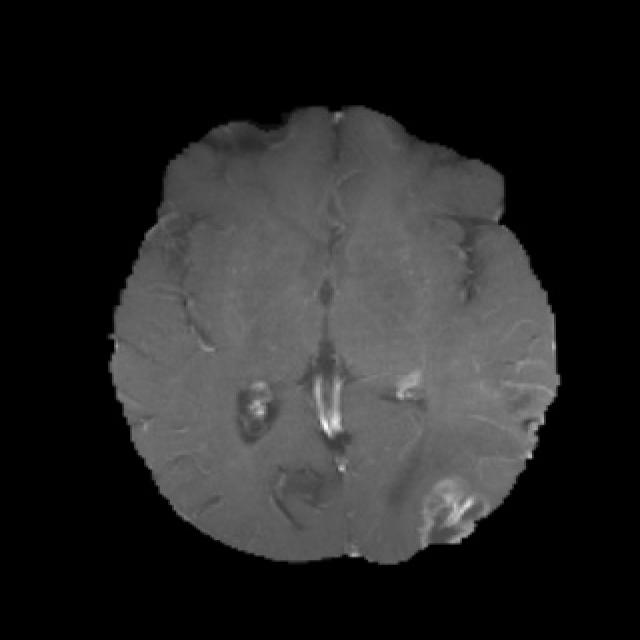negative: (421, 482, 485, 546)
